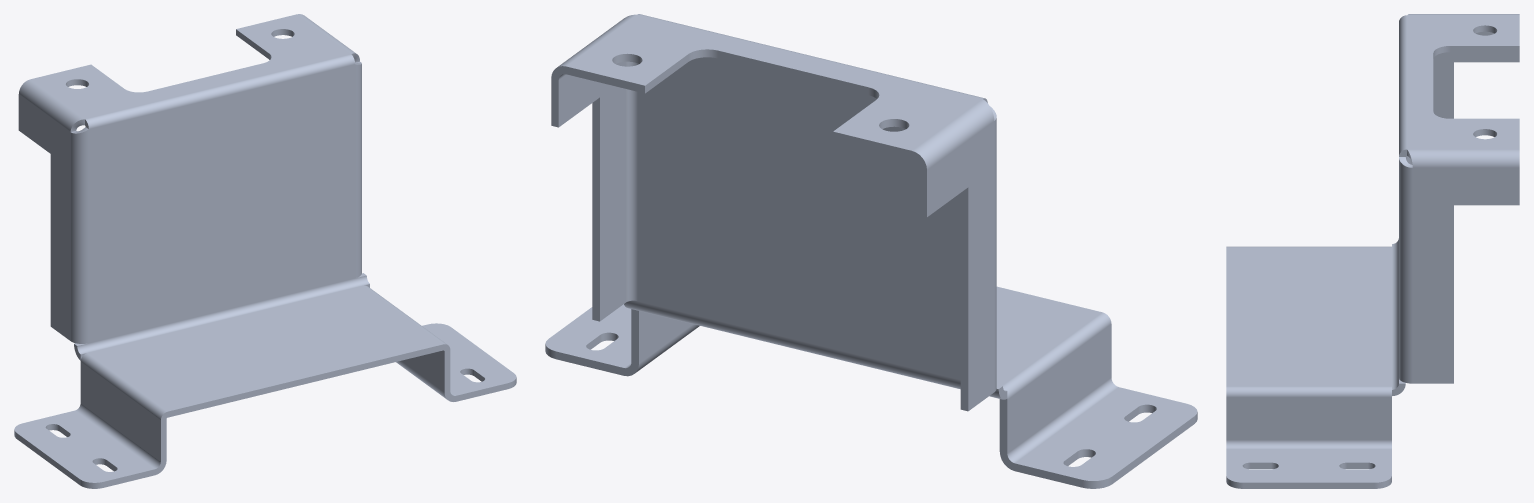
3 renders of one model, left to right at view 1: azimuth 30°, elevation 25°; view 2: azimuth 150°, elevation 25°; view 3: azimuth 270°, elevation 25°, orthographic. The views are drawn at different scales.
Parts seen in each view (by area): view 1: hw-07; view 2: hw-07; view 3: hw-07.
Part boxes in pixels (x1,y1,x2,y2): hw-07: [14, 14, 516, 488]; hw-07: [545, 14, 1197, 488]; hw-07: [1226, 14, 1519, 488].
Bounding box in the file's own units: 0.3 × 0.19 × 0.17.
